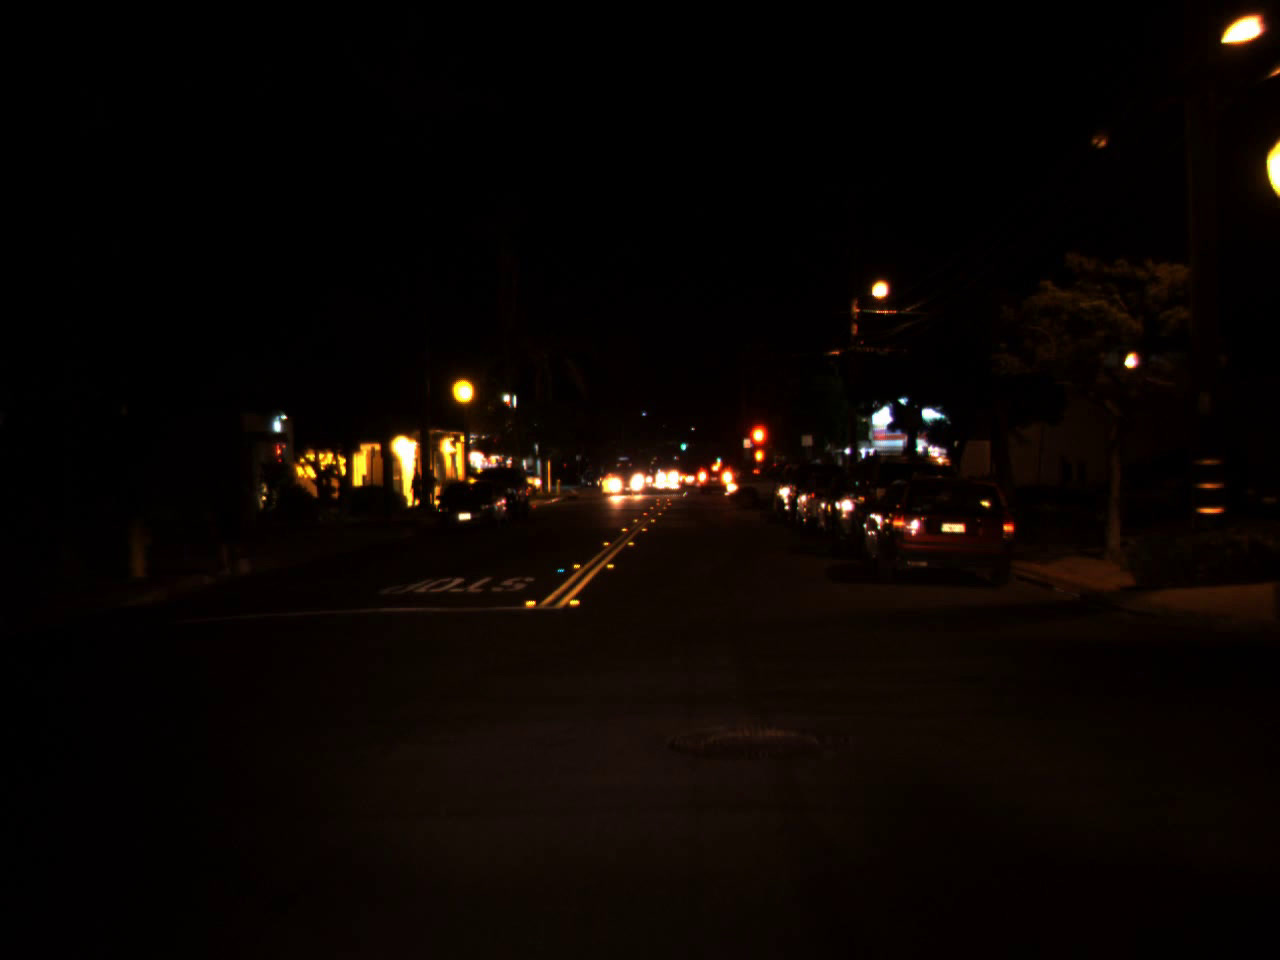go: (679, 435, 688, 453), (714, 449, 723, 464)
stop: (746, 421, 770, 469)
